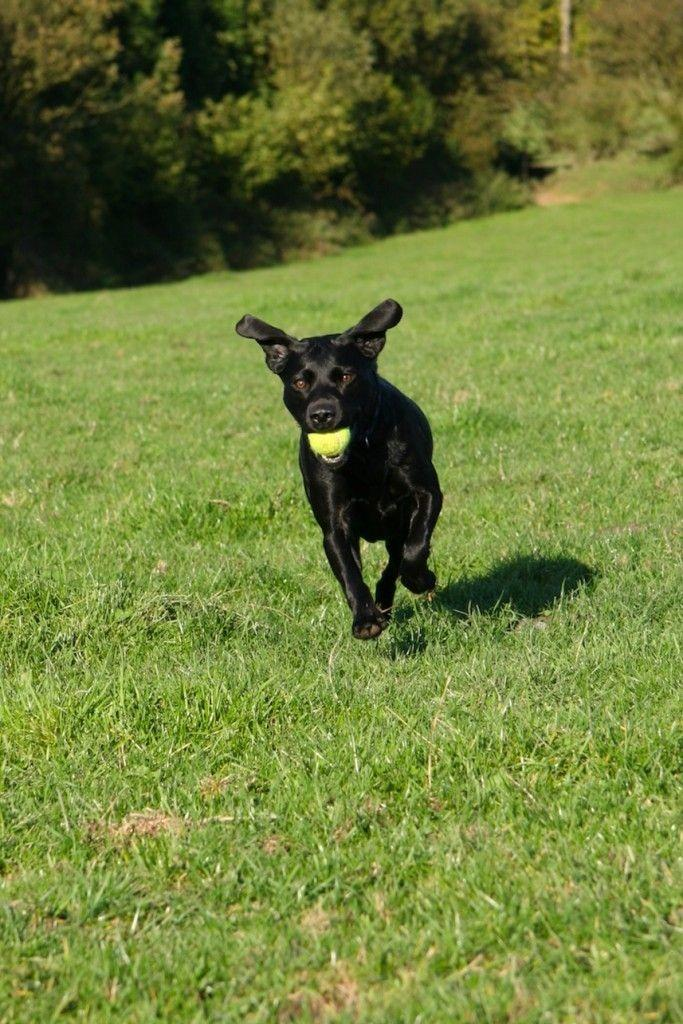adult_dog: (234, 298, 444, 641)
